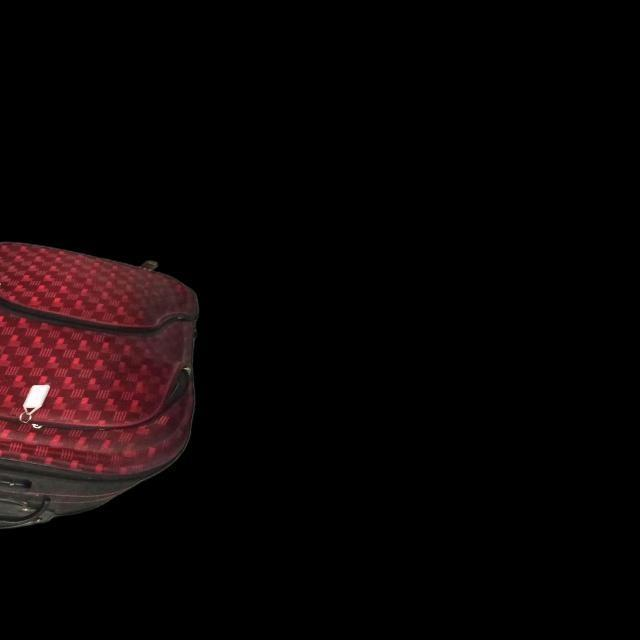Suitcase: (3, 240, 205, 536)
